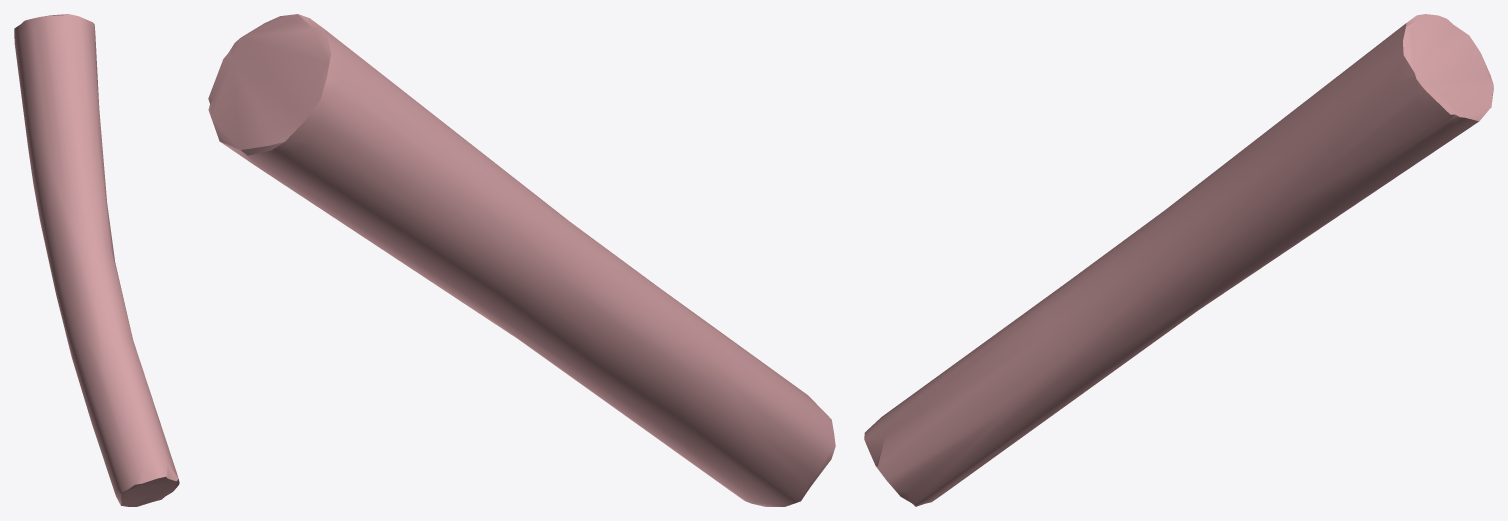
The model's file is fma68321_fj6540.glb.
3 renders of one model, left to right at view 1: azimuth 30°, elevation 25°; view 2: azimuth 150°, elevation 25°; view 3: azimuth 270°, elevation 25°, orthographic. The views are drawn at different scales.
Parts seen in each view (by area): view 1: FMA68321_FJ6540; view 2: FMA68321_FJ6540; view 3: FMA68321_FJ6540.
Boxes of the visible parts, box(x1,y1,x2,y2) form: FMA68321_FJ6540: box(14, 14, 179, 506); FMA68321_FJ6540: box(208, 14, 835, 506); FMA68321_FJ6540: box(864, 14, 1493, 506).
Bounding box in the file's own units: 0.00519 × 0.0119 × 0.0126.
